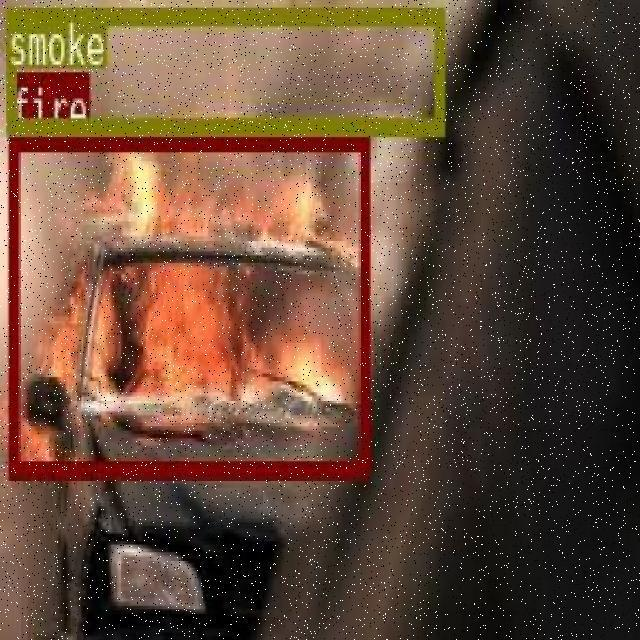Smoke: (6, 5, 442, 130)
